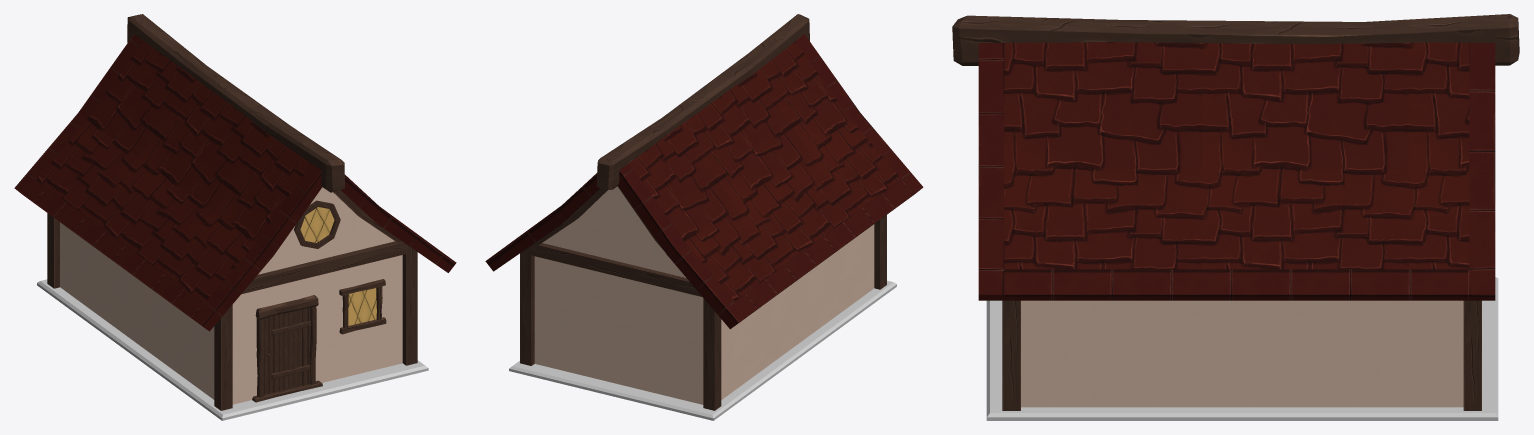
Rendered from HouseA.fbx.
The picture shows the model from 3 angles, left to right: view 1: azimuth 30°, elevation 25°; view 2: azimuth 150°, elevation 25°; view 3: azimuth 270°, elevation 25°; orthographic projection. The views are drawn at different scales.
Visible parts, largest first — view 1: House; view 2: House; view 3: House.
Part boxes in pixels (x1,y1,x2,y2): House: (14, 14, 456, 420); House: (485, 14, 923, 420); House: (952, 14, 1519, 420).
Size of the model in its own units: 8.83 by 7.99 by 12.3.
